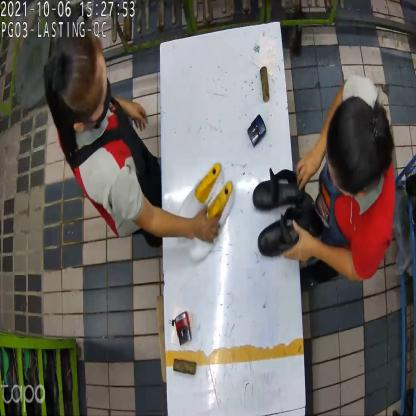shoes: (176, 157, 238, 262), (252, 168, 318, 258)
stamp: (172, 314, 196, 345), (247, 112, 268, 147)
